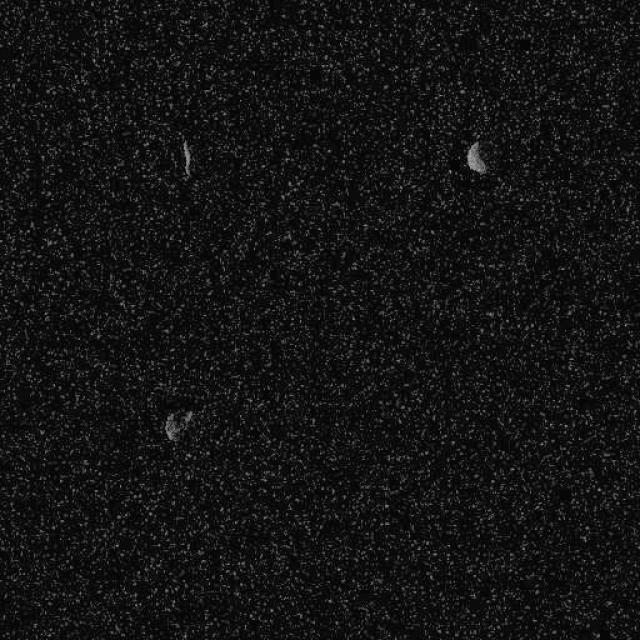D2: (162, 407, 194, 442), (465, 140, 487, 174), (180, 135, 192, 177)
